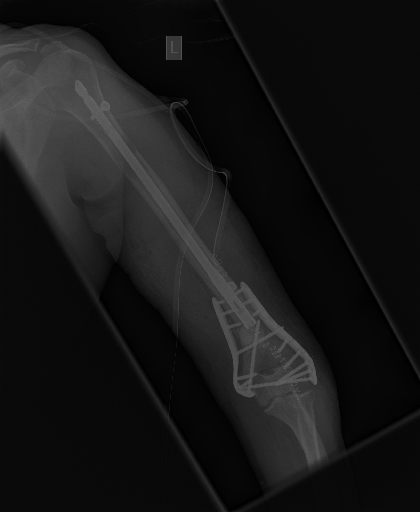implant: (211, 278, 321, 399), (71, 81, 113, 133)
